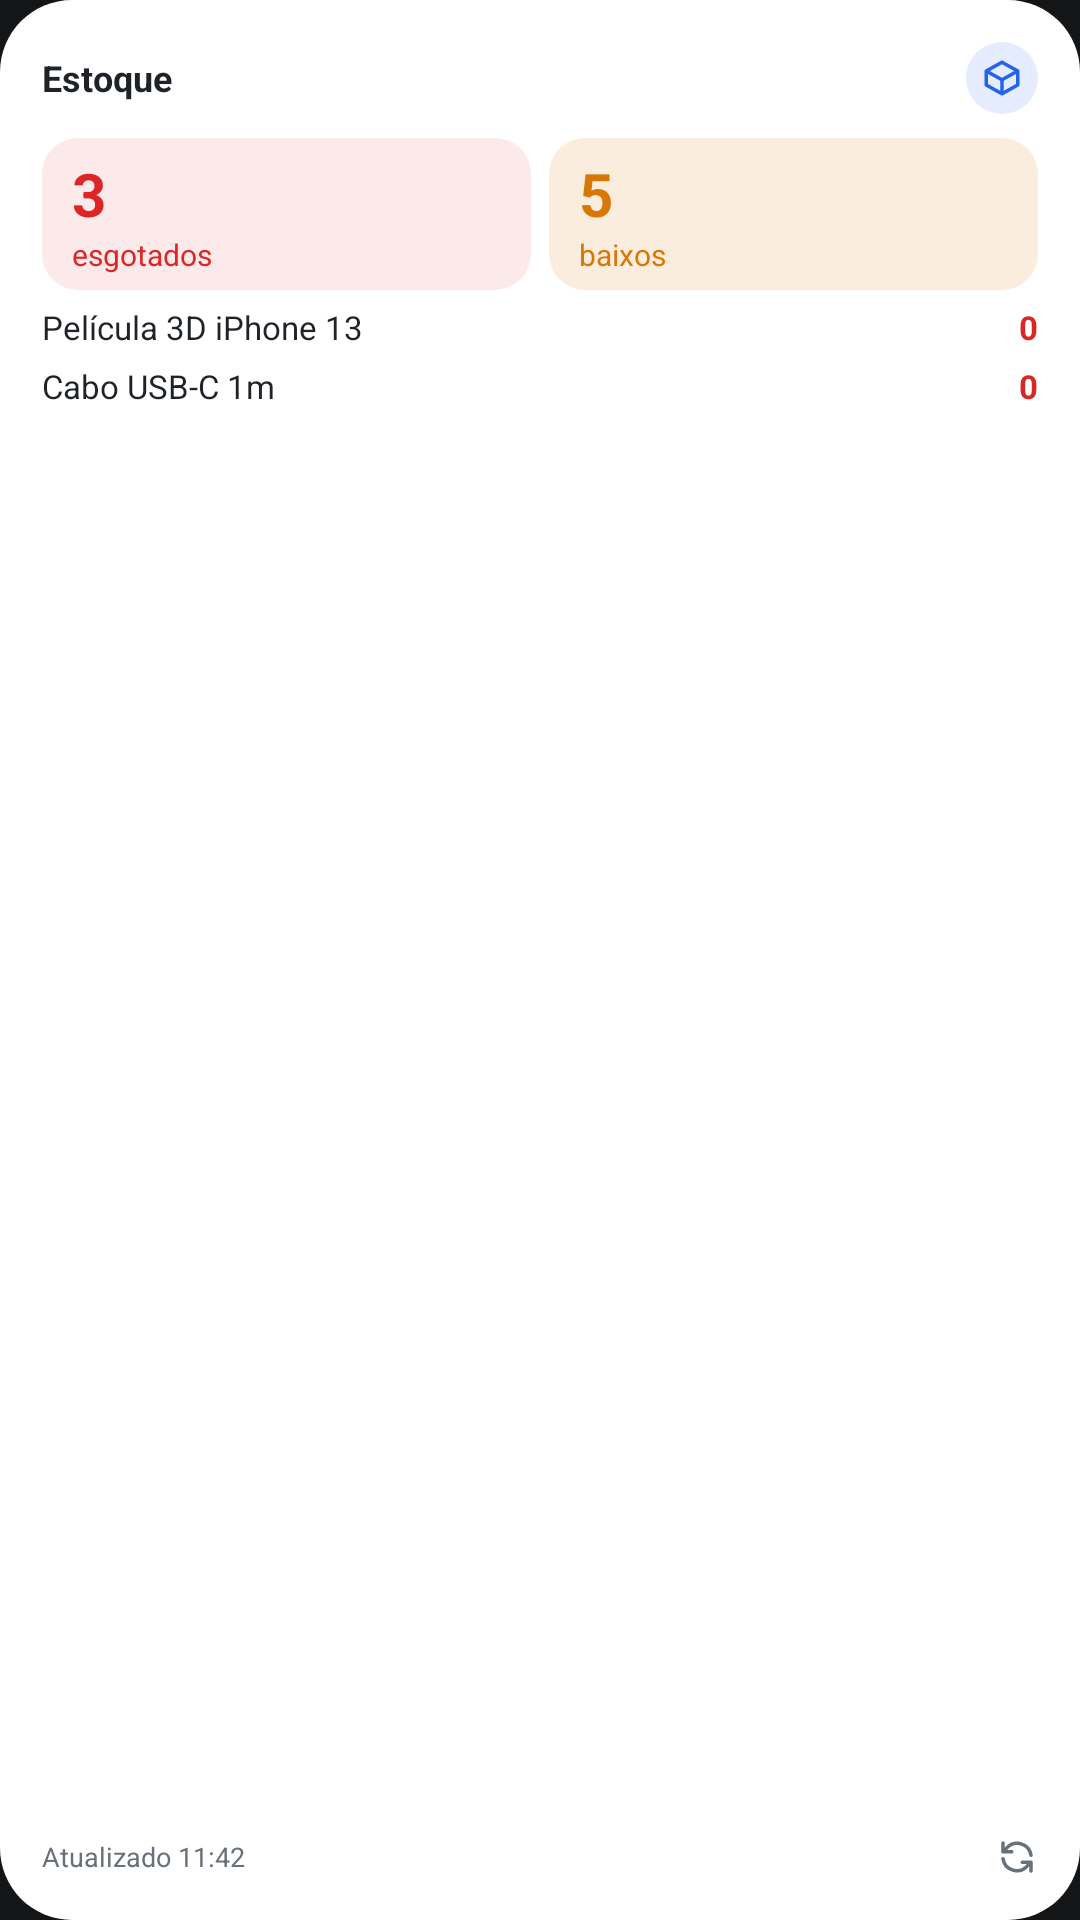

Icon click points for this 1080 x 1920 phone screenshot, format [x,y]:
atualizar: [1017,1857]
caixa: [1002,78]
